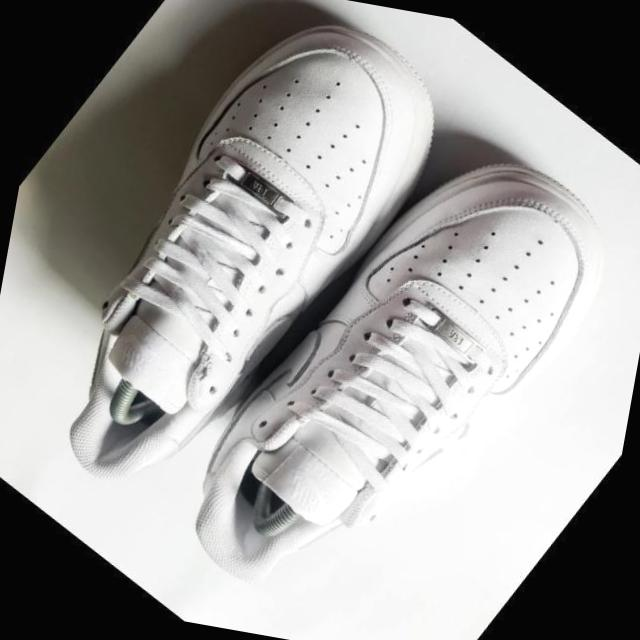nike_fake_airforce: (131, 70, 640, 640), (0, 0, 482, 561)
